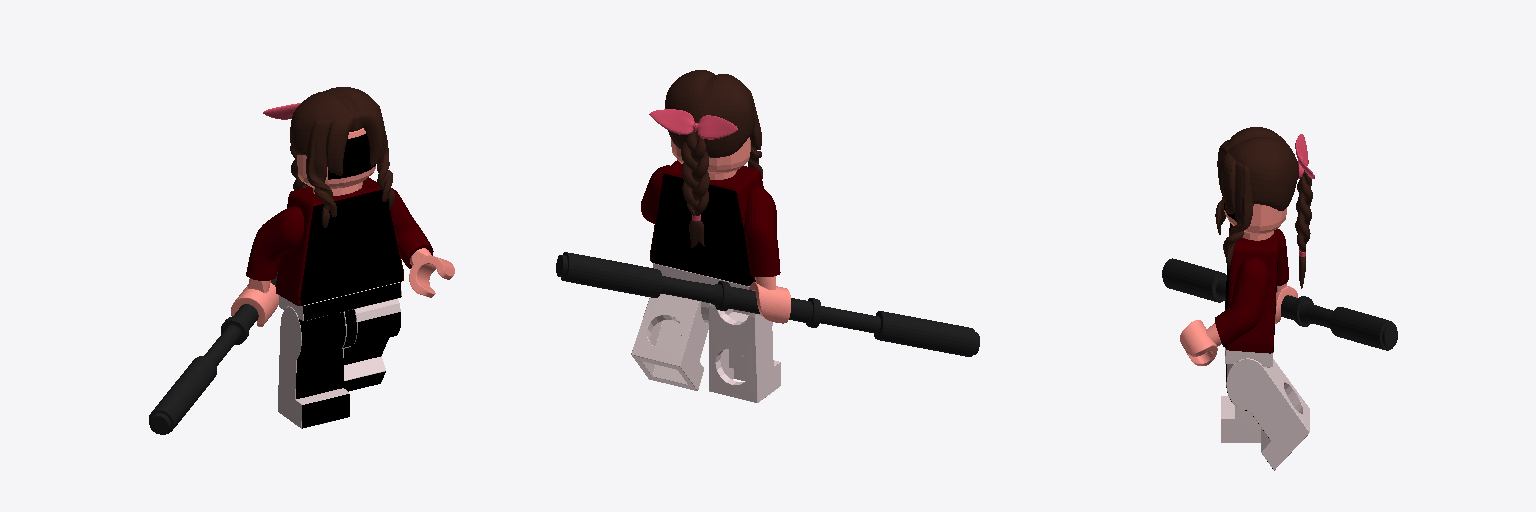
File: Aerith.obj
3 renders of one model, left to right at view 1: azimuth 30°, elevation 25°; view 2: azimuth 150°, elevation 25°; view 3: azimuth 270°, elevation 25°, orthographic.
Parts seen in each view (by area): view 1: Mini_fig_Aerith; view 2: Mini_fig_Aerith; view 3: Mini_fig_Aerith.
Part boxes in pixels (bbox=[...]): Mini_fig_Aerith: bbox=[149, 87, 454, 434]; Mini_fig_Aerith: bbox=[556, 70, 979, 402]; Mini_fig_Aerith: bbox=[1162, 127, 1397, 470].
Bounding box in the file's own units: 47.28 × 44.12 × 30.35.